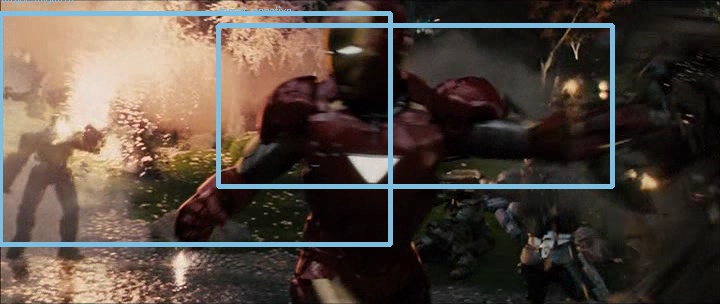person: (321, 5, 397, 91), (320, 5, 396, 91), (322, 5, 398, 91), (321, 4, 397, 90), (321, 6, 397, 92)
target_negative: (491, 55, 606, 245), (411, 115, 662, 196), (310, 122, 637, 143), (631, 199, 700, 280), (122, 176, 218, 225), (619, 245, 651, 276)
